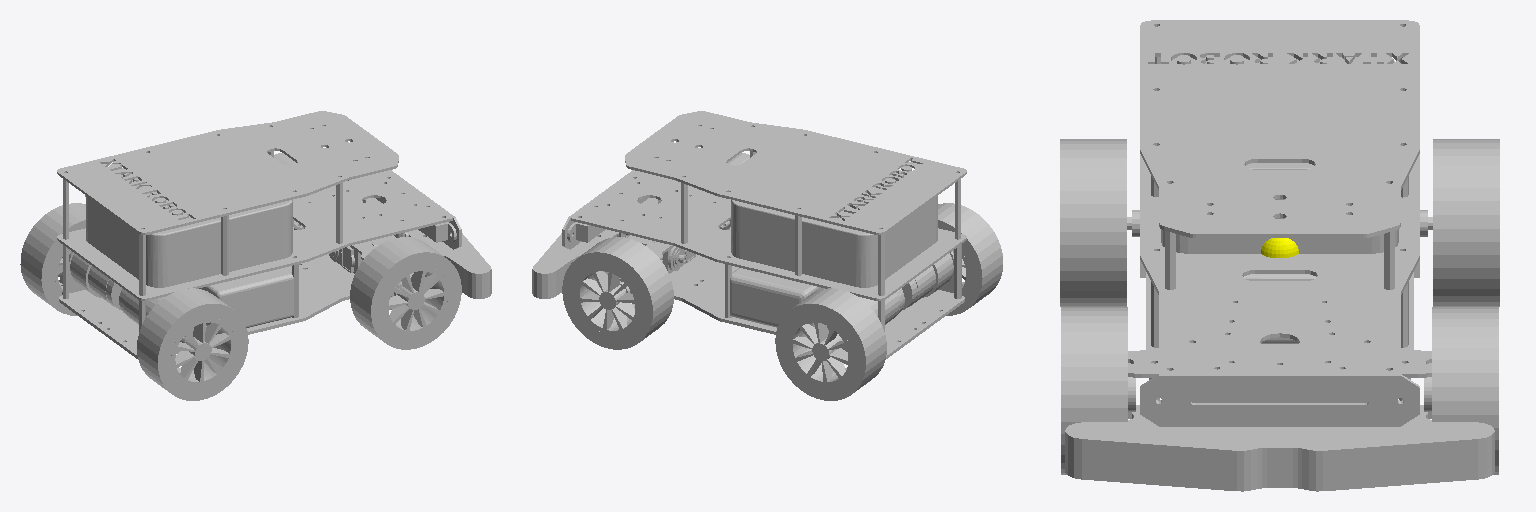
The robot description file, URDF, robot "xtark_robot":
<?xml version="1.0" encoding="utf-8"?>

<robot name="xtark_robot">

    <!-- 机器人底部中心原点 -->
    <link name="base_footprint">
        <visual>
            <geometry>
                <sphere radius="0.001" />
            </geometry>
        </visual>
    </link>

    <!-- 机器人底盘 -->
    <link name="base_link">
        <visual>
            <geometry>
                <mesh filename="package://xtark_description/meshes/base_r20_akm.stl" />
            </geometry>
            <origin xyz="0 0 0" rpy="0 0 0" />
            <material name="base_color">
                <!-- <color rgba="0.000 0.500 0.500 1" /> -->
                <!-- <color rgba="0.000 0.000 1.000 1" /> -->
                <!-- <color rgba="1.000 0.500 0.000 1" /> -->
                <color rgba="0.800 0.800 0.800 1" />
            </material>
        </visual>
    </link>    

    <!-- 机器人雷达 -->
    <link name="laser_link">
        <visual>
            <geometry>
                <mesh filename="package://xtark_description/meshes/laser_s.stl" />
            </geometry>
            <origin xyz="0 0 -0.035" rpy="0 0 0" />
            <material name="laser_color">
                <color rgba="0.4 0.4 0.4 1" />
            </material>
        </visual>
    </link> 

    <!-- 机器人摄像头 -->
    <link name="camera_link">
        <visual>
            <geometry>
                <mesh filename="package://xtark_description/meshes/depthcamera.stl" />
            </geometry>
            <origin xyz="-0.037 0 0" rpy="0 0 0" />
            <material name="camera_color">
                <color rgba="0.15 0.15 0.15 1" />
            </material>
        </visual>
    </link>

    <!-- 机器人IMU传感器 -->
    <link name="imu_link">
        <visual>
            <geometry>
                <sphere radius="0.010" />
            </geometry>
            <origin xyz="0 0 0" rpy="0 0 0" />
            <material name="imu_color">
                <color rgba="1 1 0 1" />
            </material>
        </visual>
    </link>

    <!-- 底盘与原点连接的关节 -->
    <joint name="baselink2footprint" type="fixed">
        <origin xyz="0 0 0.074" rpy="0 0 0"/>
        <parent link="base_footprint" />
        <child  link="base_link" />
    </joint>

    <!-- 雷达到与底盘连接的关节 -->
    <joint name="laser2base" type="fixed">
        <origin xyz="0.098 0 0.035" rpy="0 0 0"/>
        <parent link="base_link" />
        <child  link="laser_link" />
    </joint>

    <!-- 深度摄像头与底盘连接的关节 -->
    <joint name="camera2base" type="fixed">
        <origin xyz="0.077 0 0.0805" rpy="0 0 0"/>
        <parent link="base_link" />
        <child  link="camera_link" />
    </joint>

    <!-- IMU传感器与底盘连接的关节 -->
    <joint name="imu2base" type="fixed">
        <origin xyz="0 0 0" rpy="0 0 0"/>
        <parent link="base_link" />
        <child  link="imu_link" />
    </joint>

</robot>

--- Facts derived from the render (not from the file) ---
Views: 3 orthographic renders of the robot side by side, from view 1: azimuth 30°, elevation 25°; view 2: azimuth 150°, elevation 25°; view 3: azimuth 270°, elevation 25°.
Model xtark_robot with 5 links and 4 joints (4 fixed), rooted at base_footprint, posed all joints at 0.
Visible links, largest first — view 1: base_link; view 2: base_link; view 3: base_link, imu_link.
Link boxes in pixels (x1,y1,x2,y2): base_link: (20, 111, 491, 400); base_link: (532, 111, 1002, 400); base_link: (1060, 20, 1499, 491); imu_link: (1261, 238, 1298, 257).
Bounding box of the posed robot: 0.293 × 0.1964 × 0.127 m (x, y, z).
1 mesh visuals loaded from 3 distinct referenced files (1 binary STL); not drawn: 2 (reference not matched to a file when rendering).
